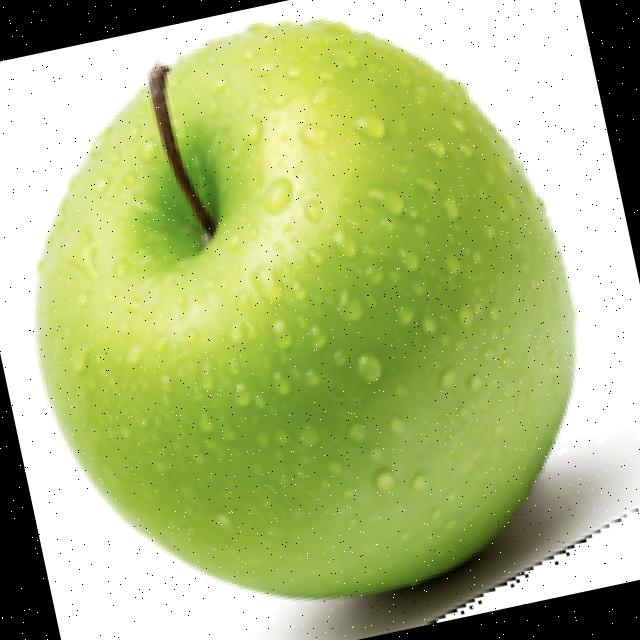apple: (28, 13, 640, 640)
